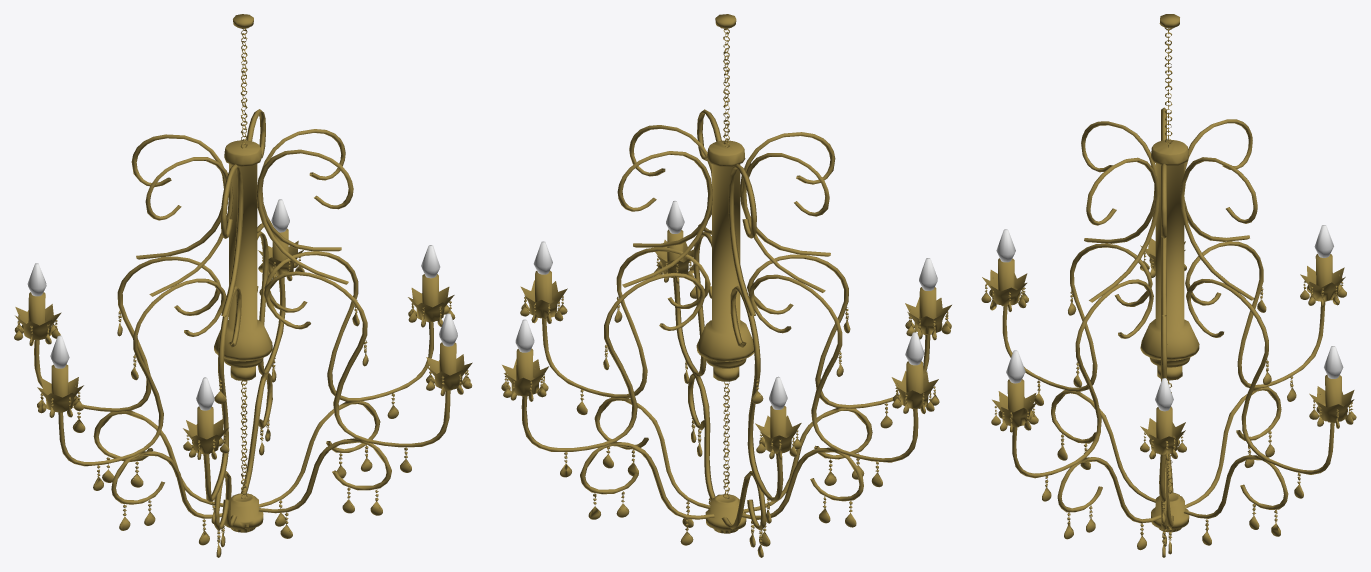
The model's file is chandelierr _game project.fbx.
3 renders of one model, left to right at view 1: azimuth 30°, elevation 25°; view 2: azimuth 150°, elevation 25°; view 3: azimuth 270°, elevation 25°, orthographic.
Visible parts, largest first — view 1: Torus.001, Torus.197; view 2: Torus.001, Torus.197; view 3: Torus.001, Torus.197.
Boxes of the visible parts, <box> form: Torus.001: <box>14,14,472,557</box>; Torus.197: <box>27,199,457,410</box>; Torus.001: <box>501,14,951,557</box>; Torus.197: <box>515,201,937,409</box>; Torus.001: <box>981,14,1356,557</box>; Torus.197: <box>996,225,1343,411</box>.
Bounding box in the file's own units: 1957 × 2345 × 1541.
